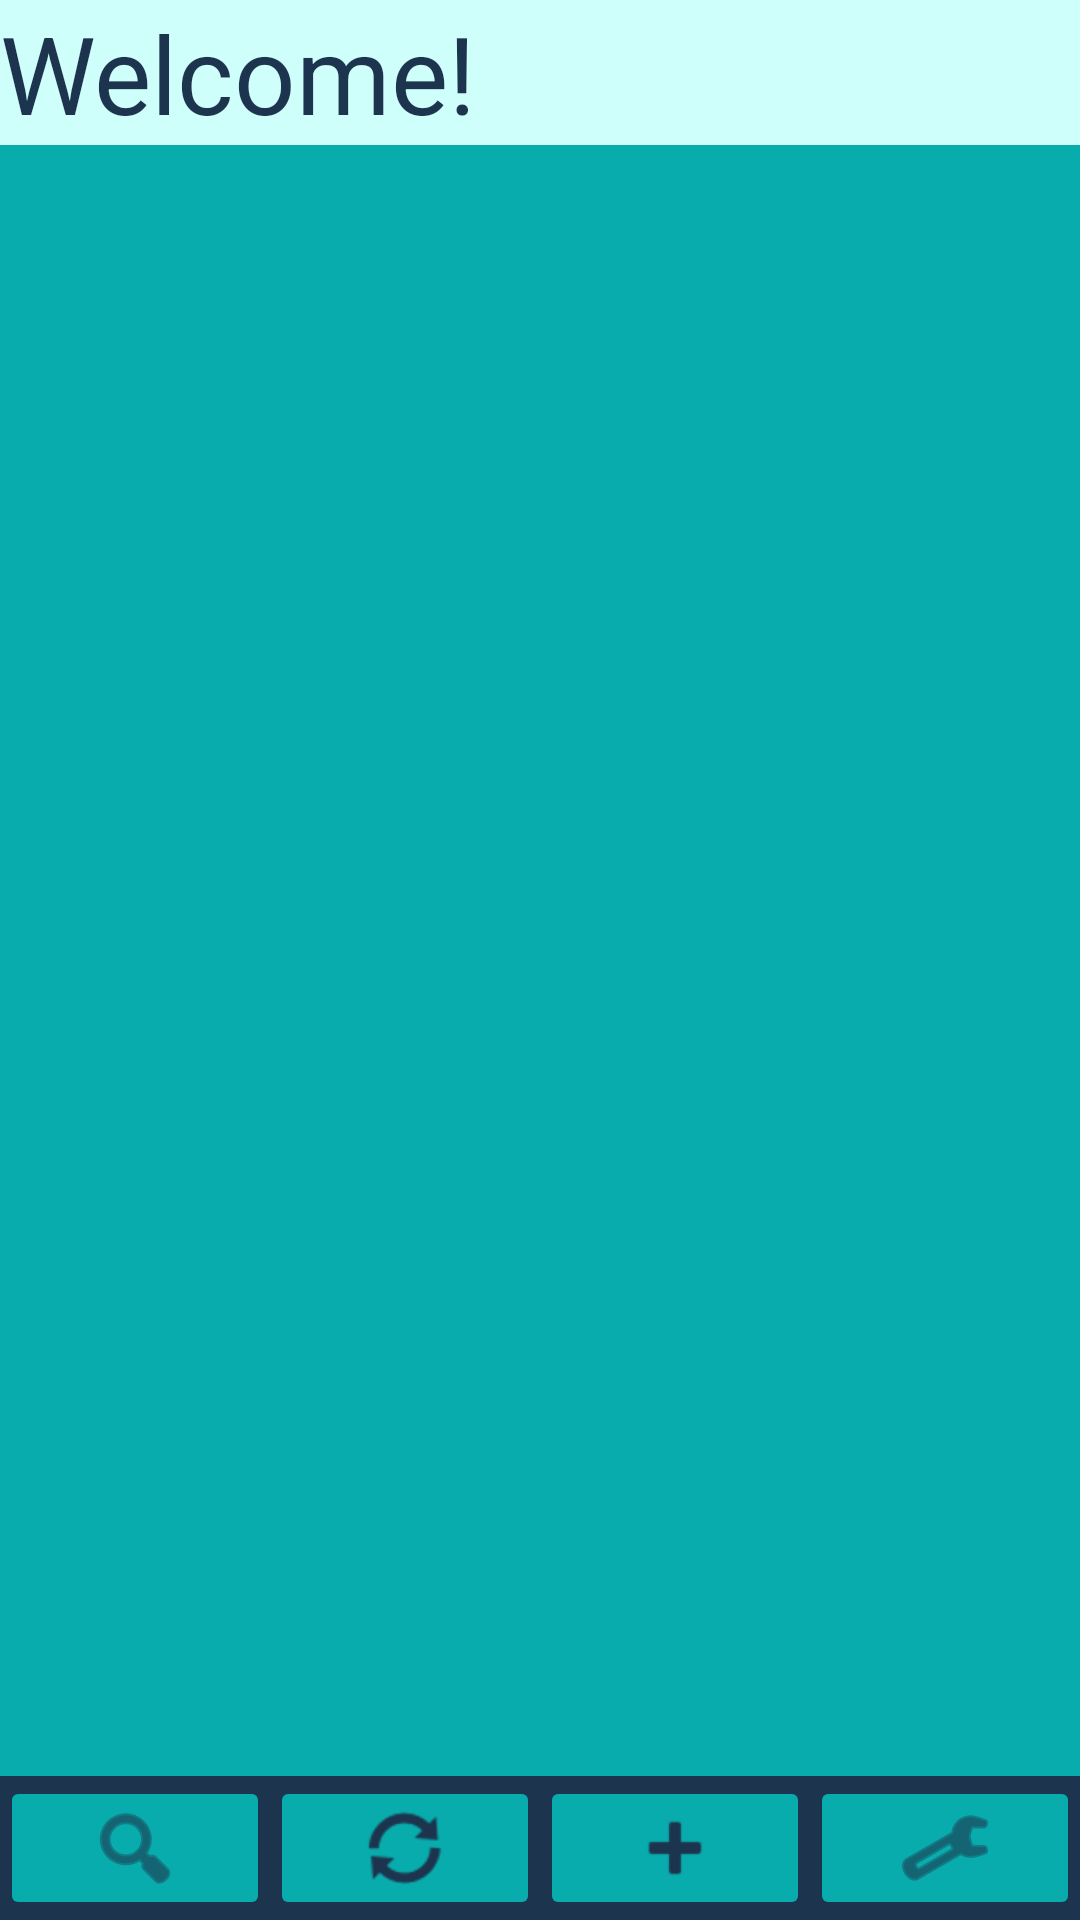

Named icons in this screenshot (1080x1920) and their centers, (x=x, y=y):
add: (x=675, y=1848)
popup sync: (x=405, y=1848)
preferences: (x=945, y=1848)
search: (x=135, y=1848)
